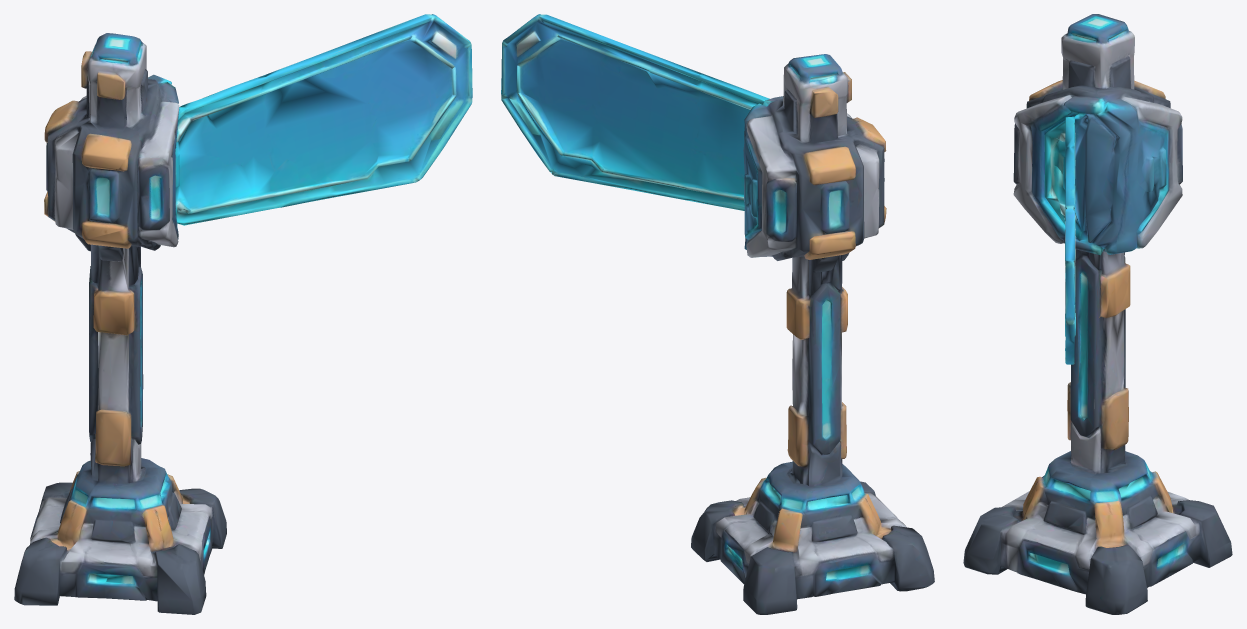
File: holosign.glb
3 renders of one model, left to right at view 1: azimuth 30°, elevation 25°; view 2: azimuth 150°, elevation 25°; view 3: azimuth 270°, elevation 25°, orthographic. The views are drawn at different scales.
Visible parts, largest first — view 1: tripo_node_b6dfdcdf-2152-44ad-b899-fc620ebdb2d8; view 2: tripo_node_b6dfdcdf-2152-44ad-b899-fc620ebdb2d8; view 3: tripo_node_b6dfdcdf-2152-44ad-b899-fc620ebdb2d8.
Part boxes in pixels (left/top/right/bottom): tripo_node_b6dfdcdf-2152-44ad-b899-fc620ebdb2d8: left=14, top=14, right=472, bottom=614; tripo_node_b6dfdcdf-2152-44ad-b899-fc620ebdb2d8: left=501, top=14, right=934, bottom=614; tripo_node_b6dfdcdf-2152-44ad-b899-fc620ebdb2d8: left=963, top=14, right=1232, bottom=614.
Bounding box in the file's own units: 0.8974 × 0.9999 × 0.455.
1 material, 1 textured.
